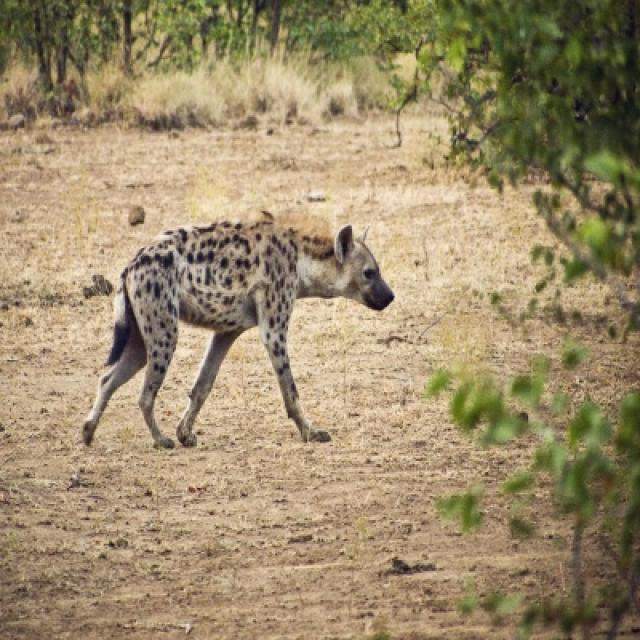hyena: (83, 213, 392, 445)
